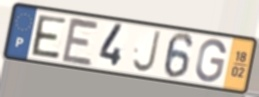4: (98, 22, 126, 72)
6: (163, 32, 195, 81)
E: (59, 15, 101, 68), (30, 14, 69, 61)
G: (193, 38, 228, 85)
J: (130, 29, 162, 75)
